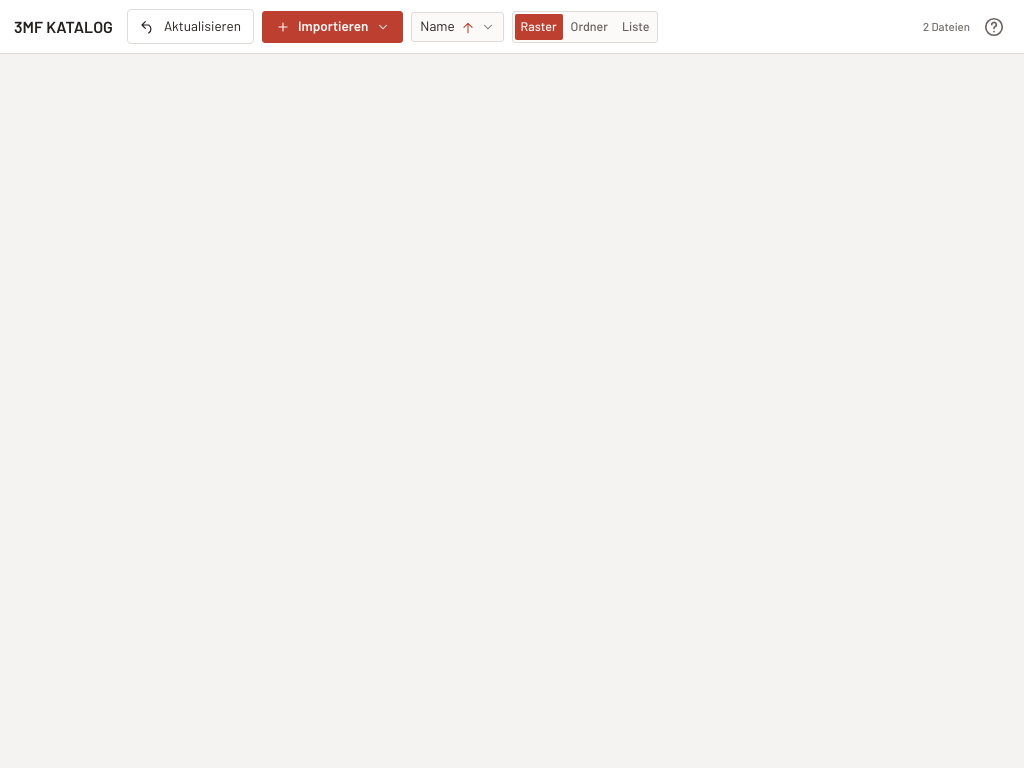
Scenario: Header menus › dismisses sort on outside mouseDown
Click the button "Name": click(457, 26) [411,12,504,42]
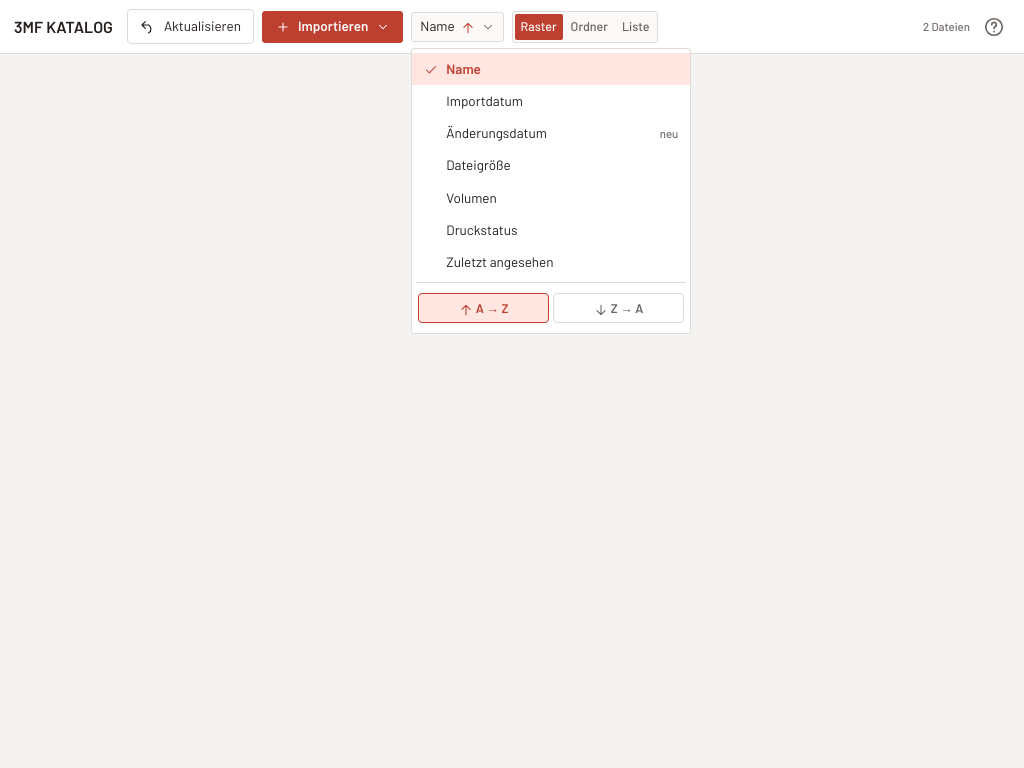
Now the menu item "Dateigröße" is shown, box [412,149,690,182]
Press the mouse on the element that starts with "3MF Katalog": (512, 384) [0,0,1023,767]
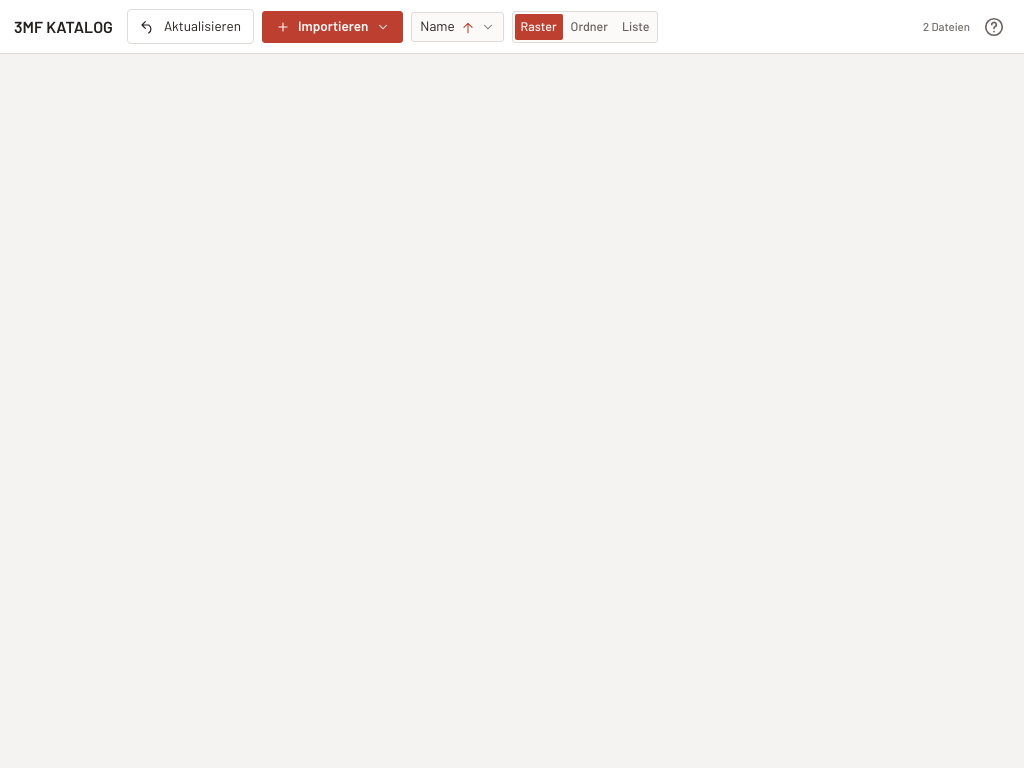
Now the menu item "Dateigröße" is gone
